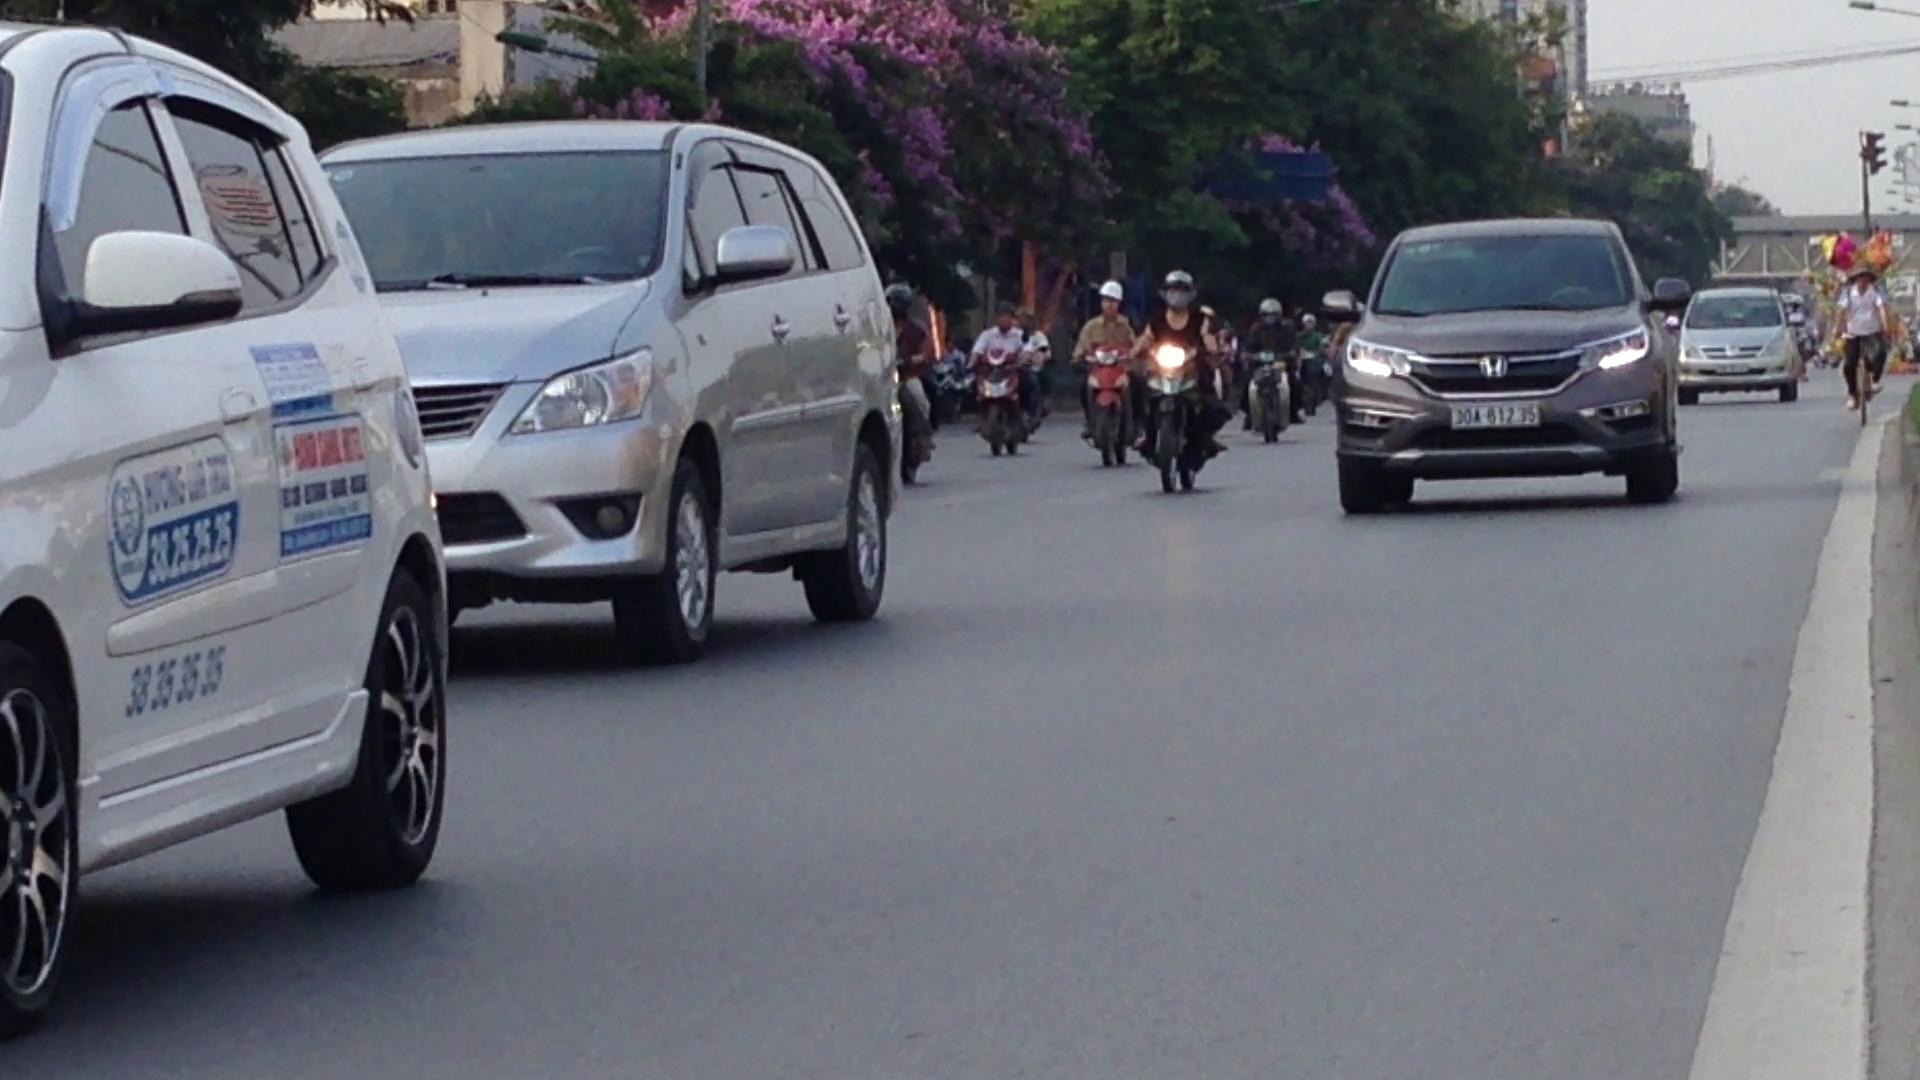vehicle-plate: (1448, 399, 1544, 429)
